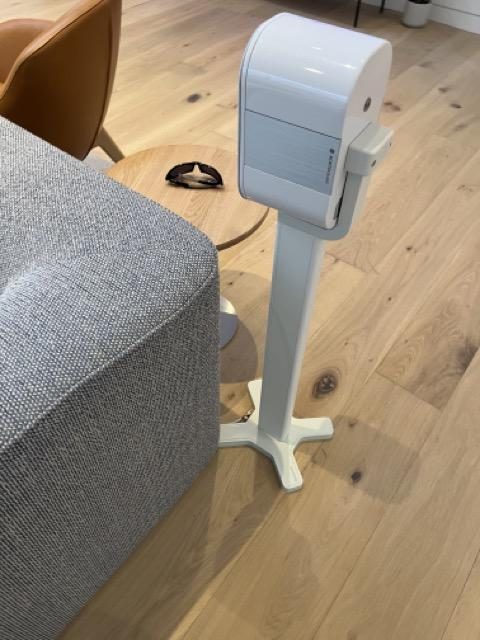Sunglasses: (165, 159, 225, 193)
